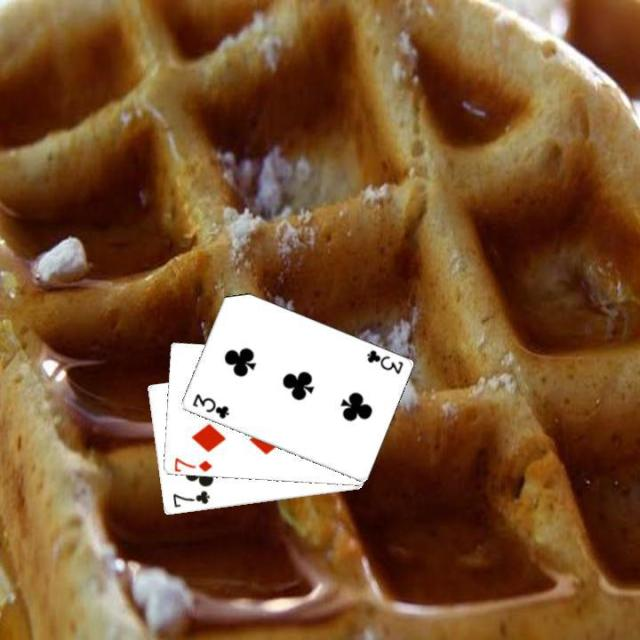3C: (188, 390, 230, 420), (362, 346, 404, 376)
7C: (168, 487, 212, 509)
7D: (170, 454, 213, 473)
